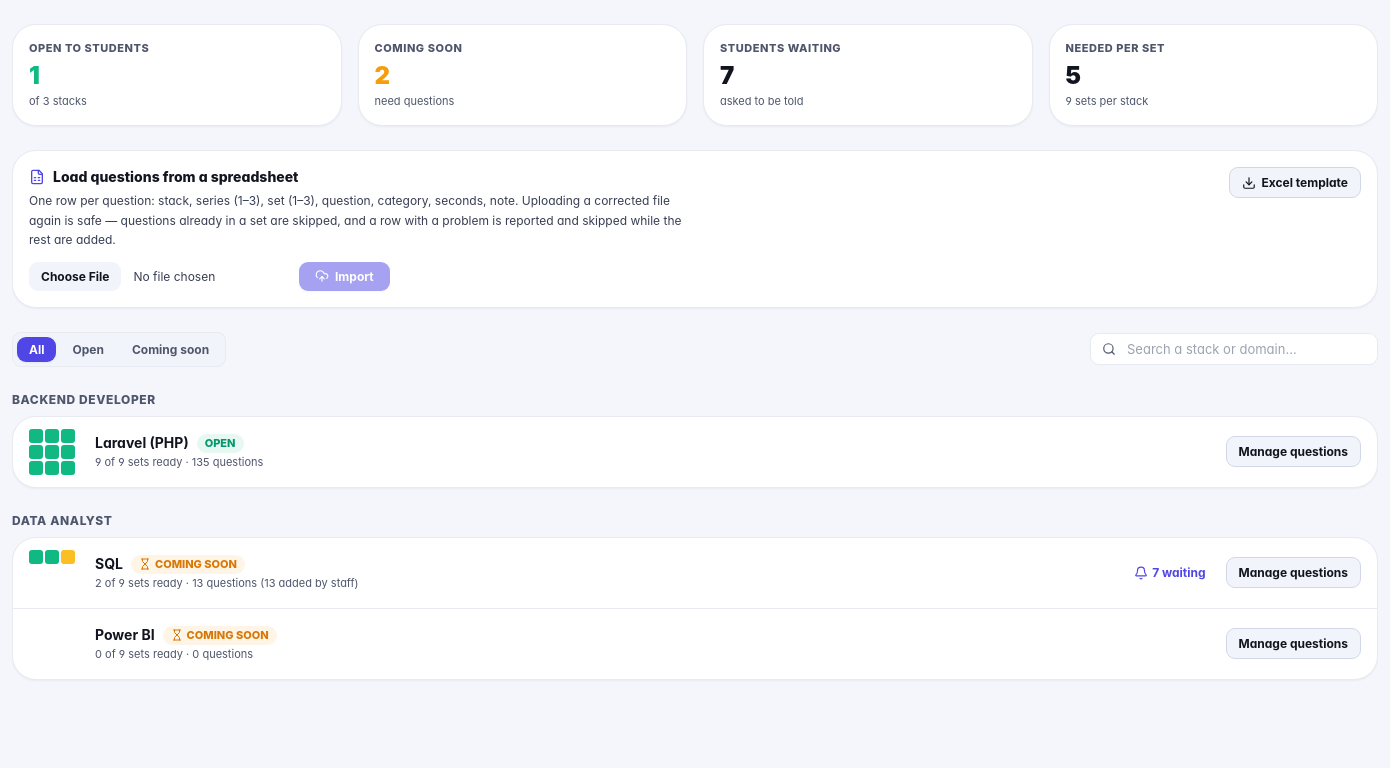
Test case: the question bank overview › filters to the stacks that still need questions, and by search
Expected: the text "Open to students" is shown, left=29, top=41, right=149, bottom=55
Click the button "Coming soon": click(171, 349) left=120, top=336, right=221, bottom=362
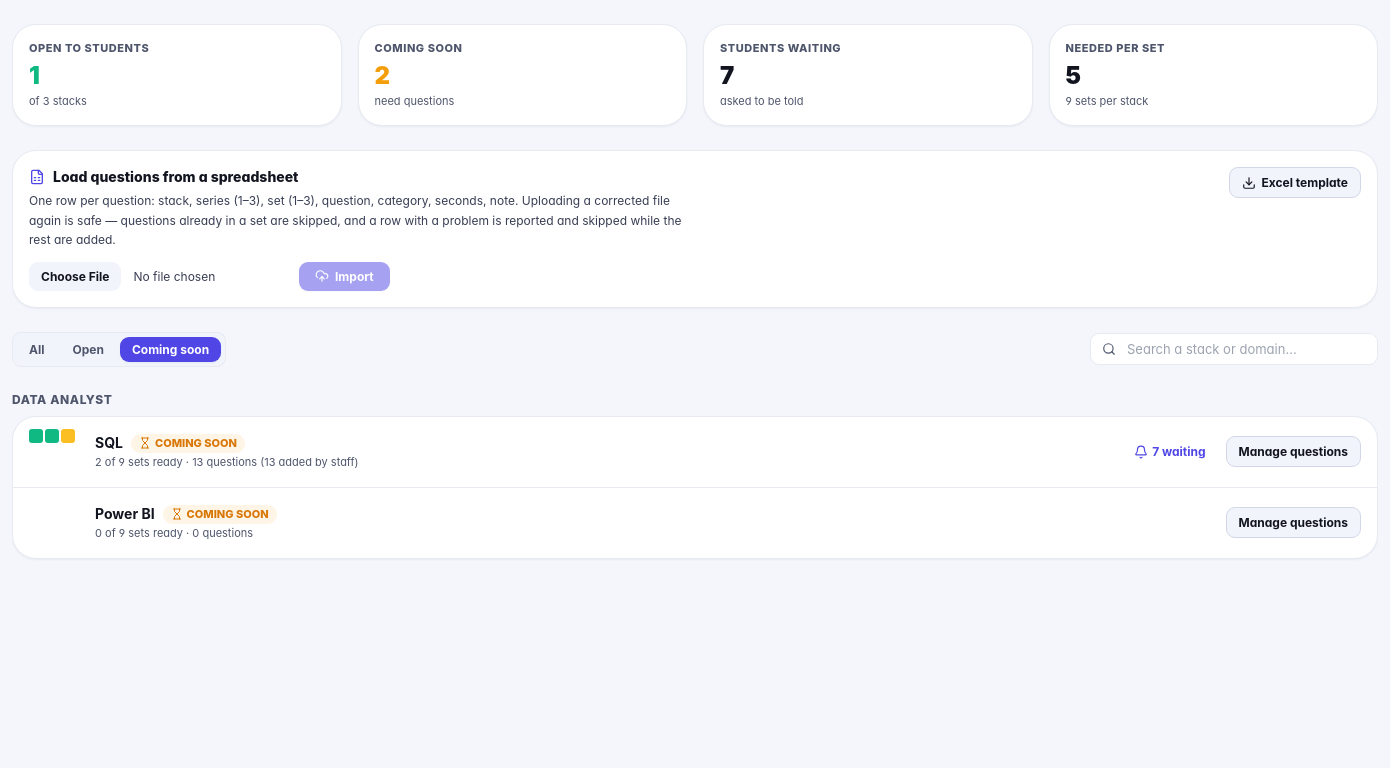
Expected: the text "SQL" is shown, left=95, top=433, right=123, bottom=453
Result: the text "Laravel (PHP)" is gone
In the field named "Search stacks": (1234, 349) left=1090, top=333, right=1378, bottom=365, type "power"
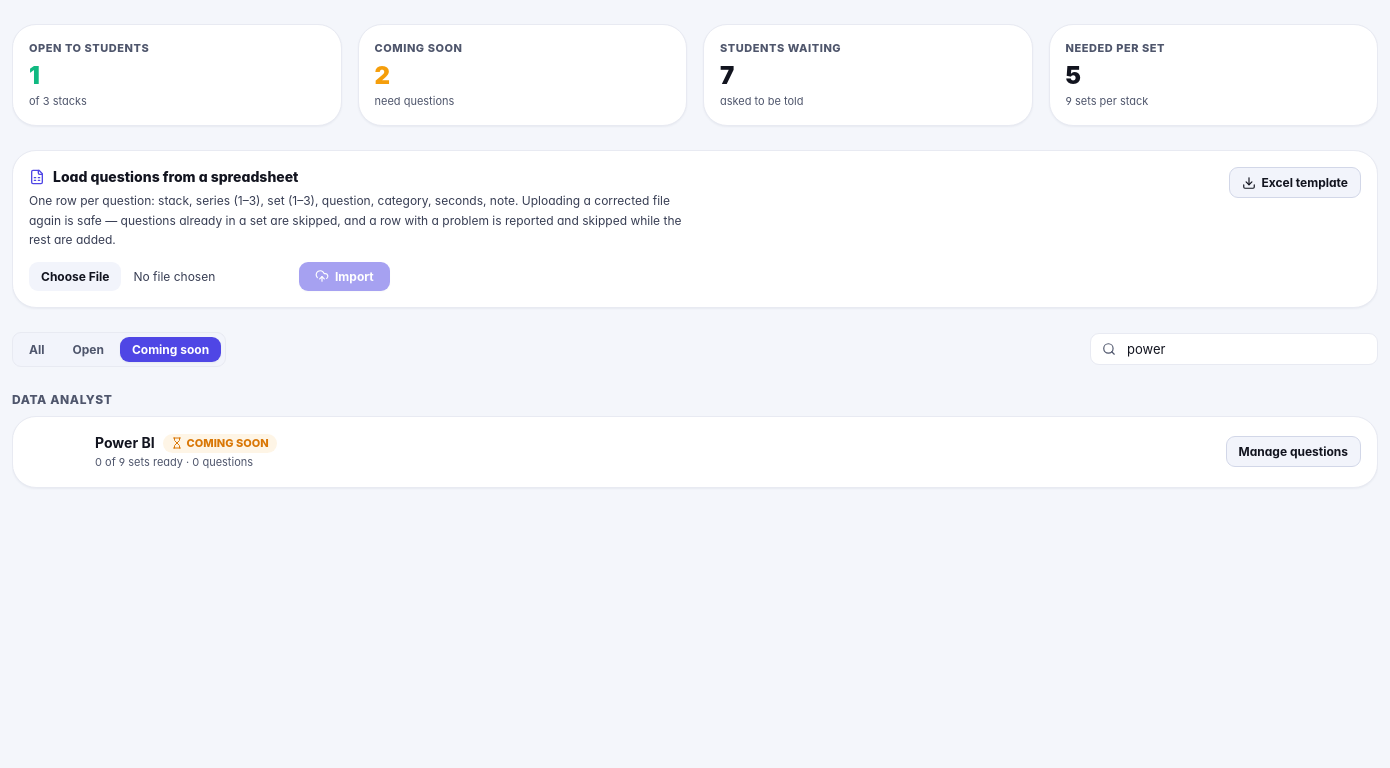
Expected: the text "Power BI" is shown, left=95, top=433, right=155, bottom=453
Result: the text "SQL" is gone
Replace the text in the field named "Search stacks" with "zzz": (1234, 349) left=1090, top=333, right=1378, bottom=365
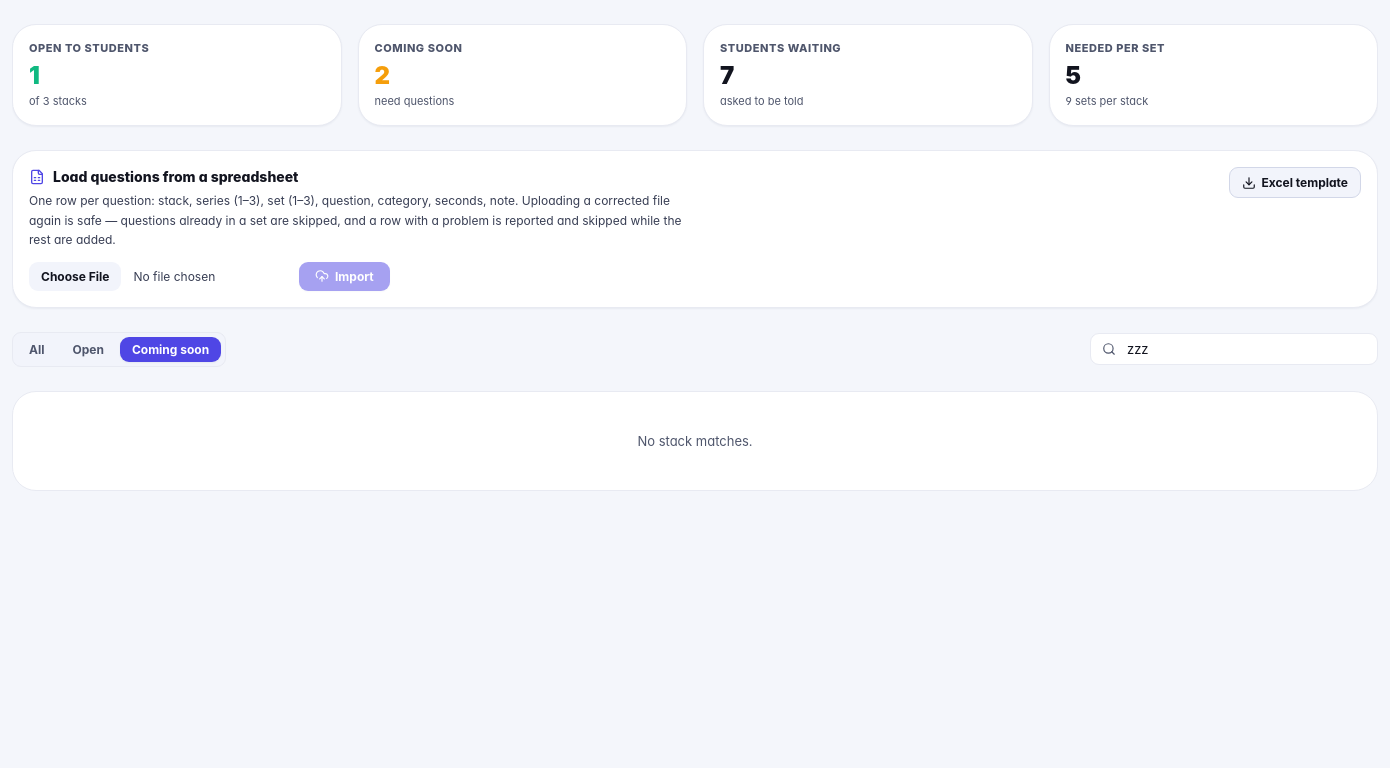
Result: the text "No stack matches." is shown at left=12, top=390, right=1378, bottom=490
